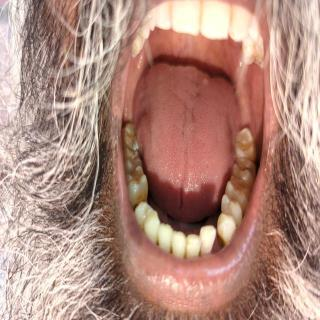cavities: (125, 189, 145, 218), (238, 158, 256, 185), (217, 225, 234, 253)
